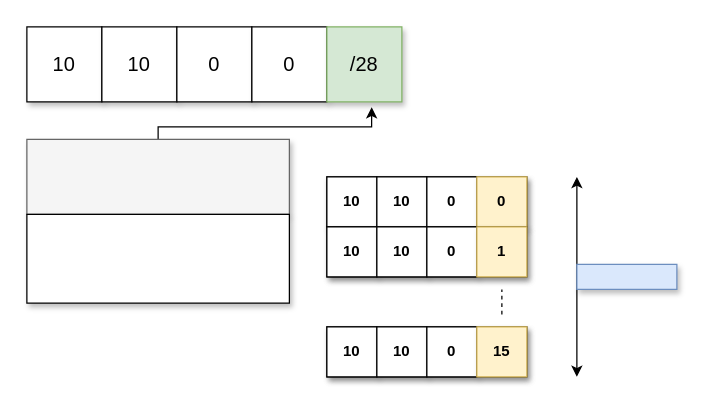
This 706x410 diagram has some shape labels left out. Each missing label, with the centre of its shape:
"CIDR decides how many bits are reserved for network" goes at point 159,178.
"TOTAL 16" goes at point 627,278.
"Total bits = 32 Available bits = 32 - 28 = 4 Total IPS = 2 ^ 4 = 16 IPS" goes at point 159,260.
